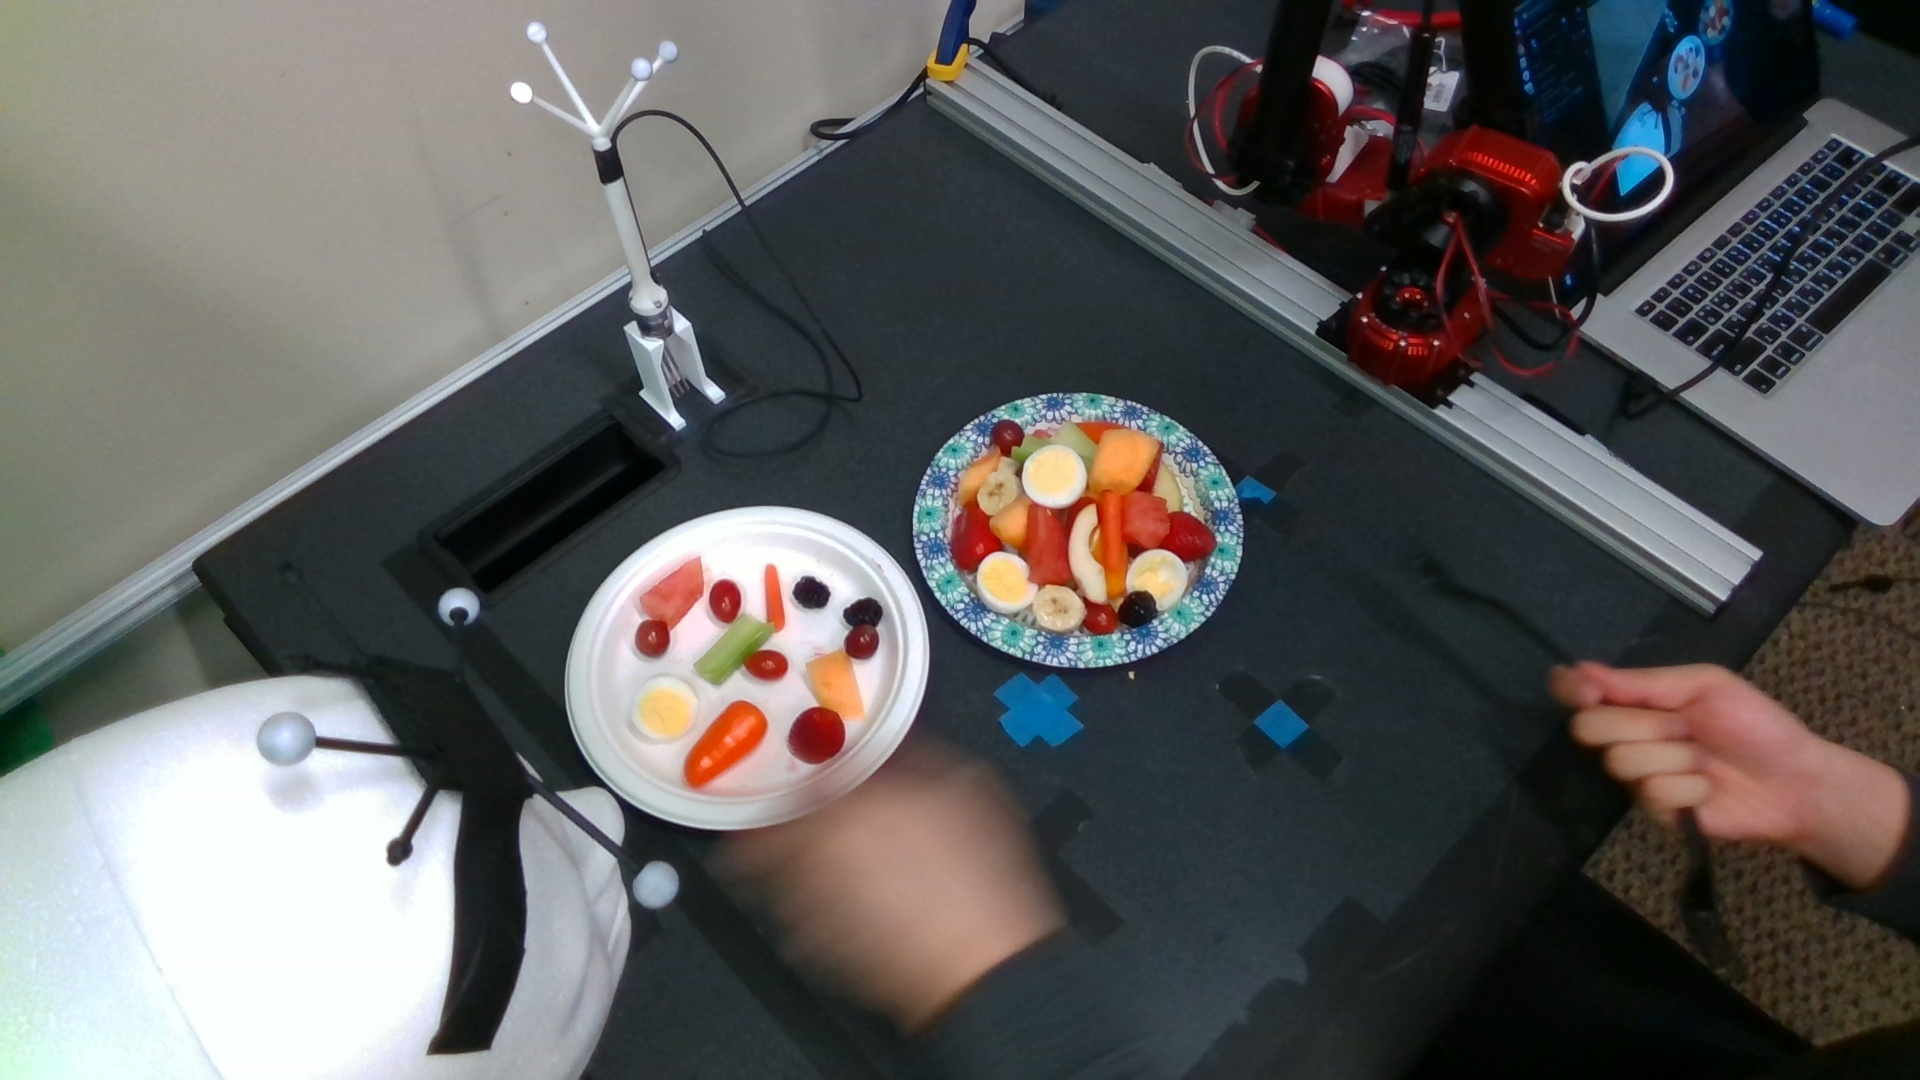apple: (1069, 502, 1110, 607)
banana: (1033, 585, 1087, 636), (976, 472, 1021, 516)
bell_pepper: (687, 702, 769, 789), (951, 501, 1004, 571)
blackberry: (1118, 591, 1159, 626), (793, 575, 831, 611), (844, 597, 884, 626)
cantalope: (1092, 429, 1162, 495), (806, 647, 865, 719)
carrot: (1097, 489, 1129, 603), (764, 564, 787, 632)
celery: (698, 615, 771, 680)
cherry_tomato: (741, 650, 790, 680), (709, 579, 740, 624), (1084, 603, 1118, 636)
egg: (630, 676, 702, 741), (1021, 444, 1087, 508), (977, 550, 1038, 615), (1126, 550, 1185, 612)
grape: (636, 620, 670, 655), (844, 625, 880, 659), (992, 421, 1025, 454)
melon: (640, 556, 703, 626), (1027, 506, 1073, 583), (1124, 487, 1170, 549)
plate: (564, 506, 928, 827), (910, 393, 1246, 667)
strawberry: (790, 709, 847, 762), (1162, 512, 1215, 564)
